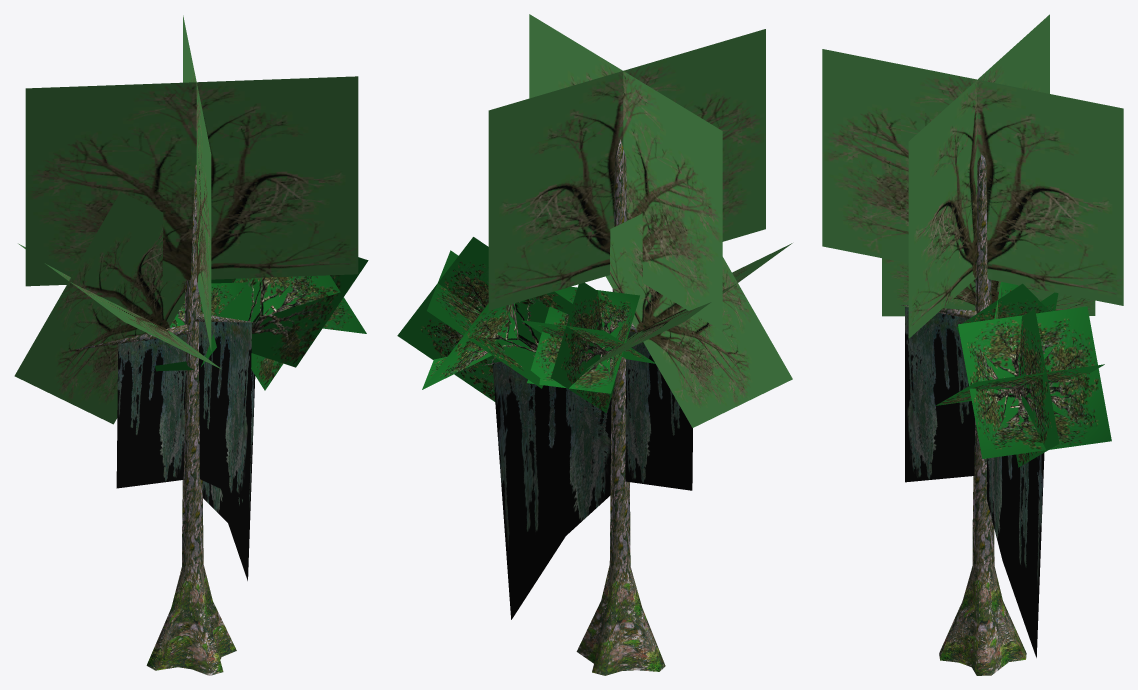
File: decd_mosstreeflared_l1.fbx
The picture shows the model from 3 angles, left to right: view 1: azimuth 30°, elevation 25°; view 2: azimuth 150°, elevation 25°; view 3: azimuth 270°, elevation 25°; orthographic projection.
Parts seen in each view (by area): view 1: mesh_node; view 2: mesh_node; view 3: mesh_node.
Boxes of the visible parts, x1,y1,x2,y2 form: mesh_node: [14, 15, 368, 675]; mesh_node: [397, 14, 792, 675]; mesh_node: [822, 14, 1123, 675].
Bounding box in the file's own units: 10.33 × 15.97 × 7.57.
